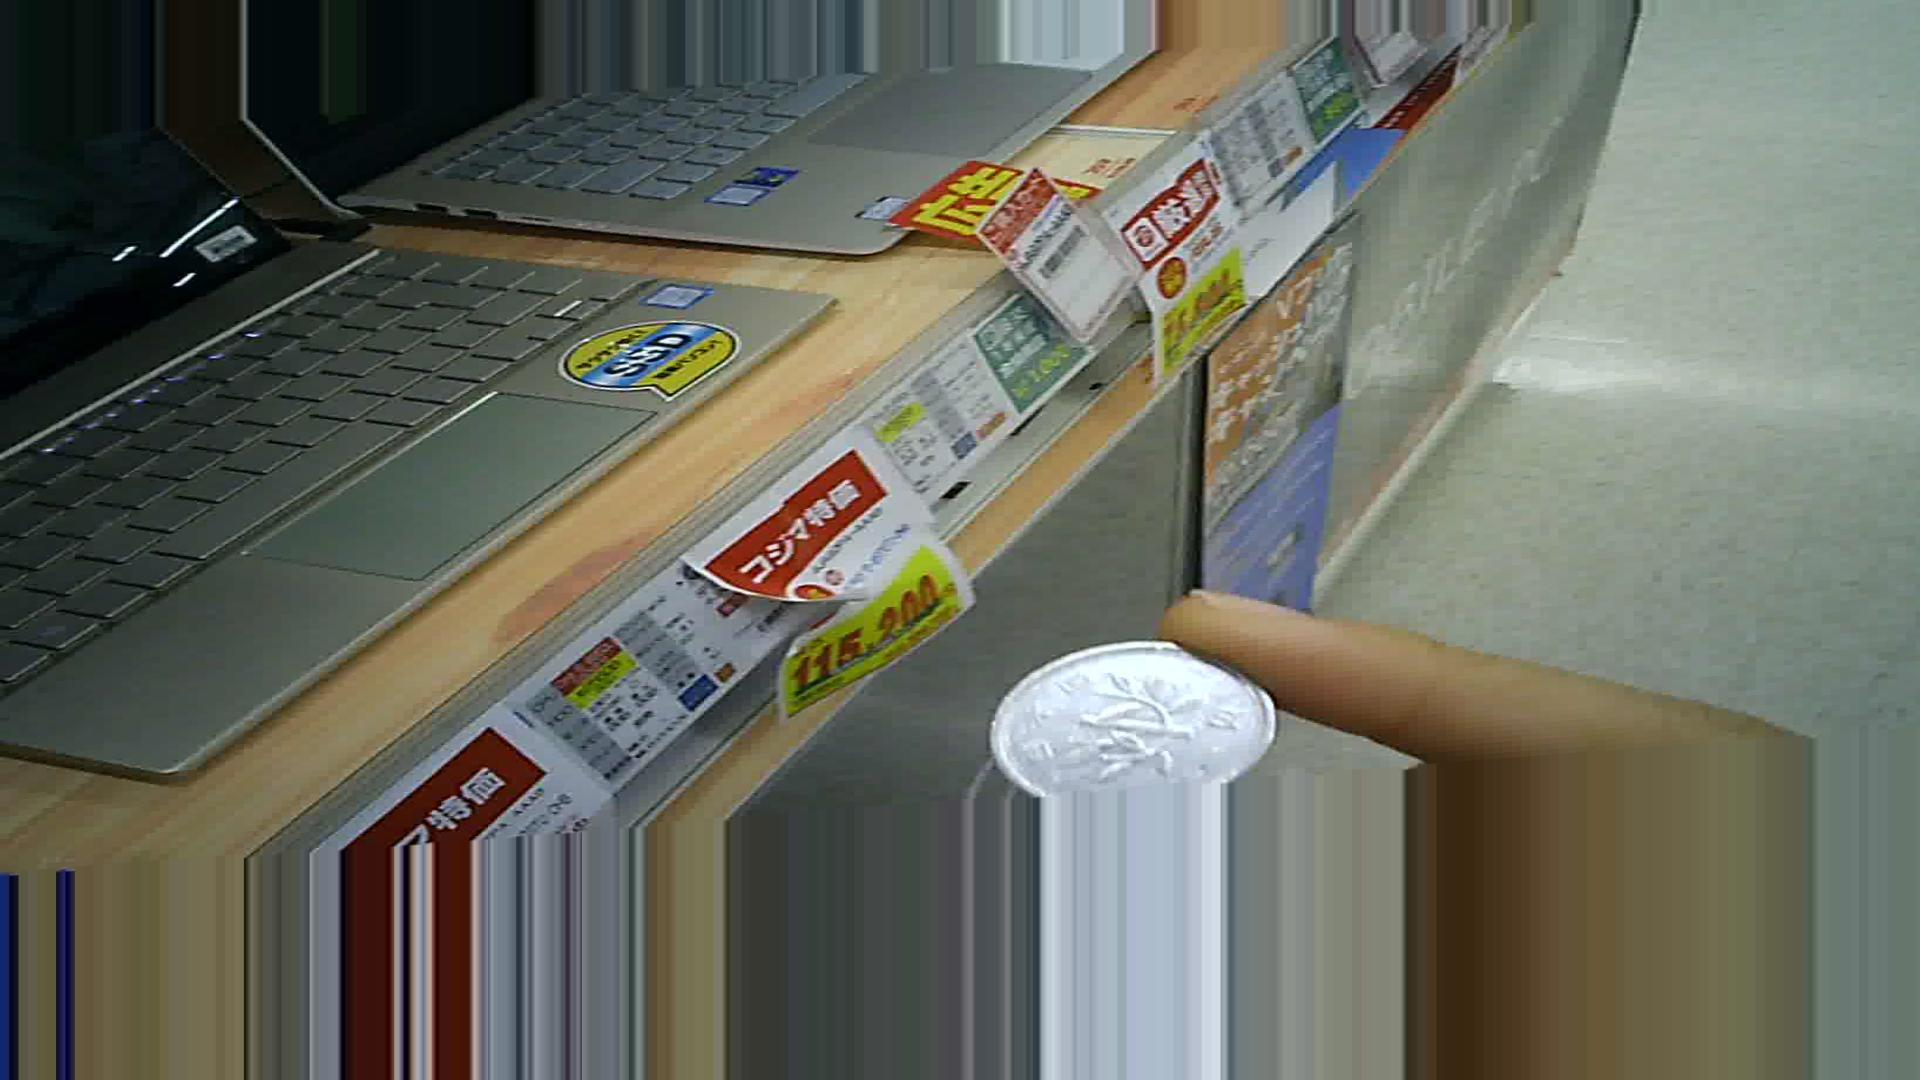1 Yen: (973, 634, 1280, 804)
